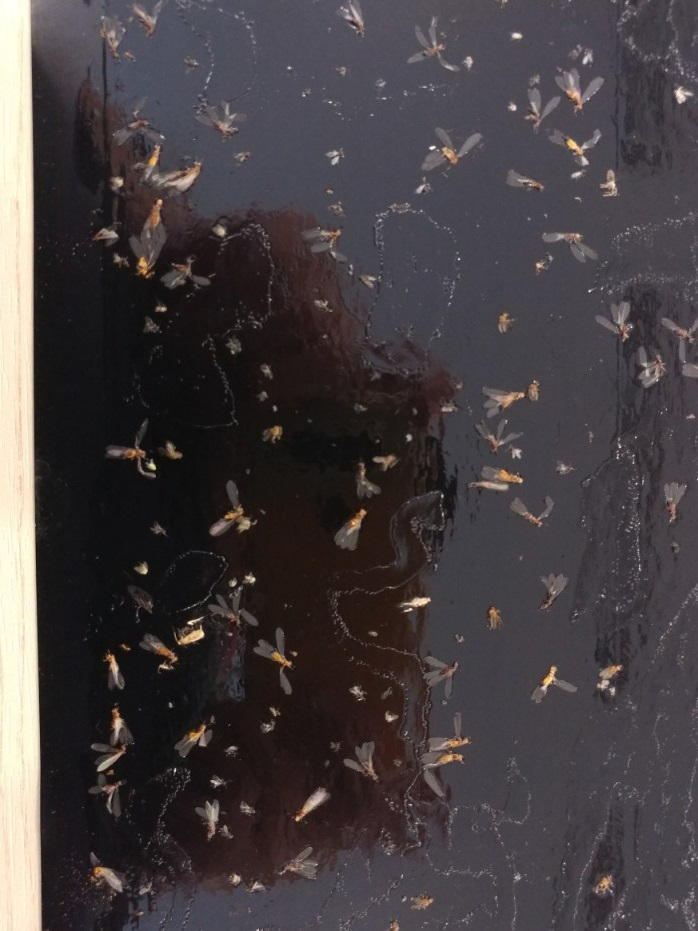flying termite: (252, 622, 315, 710), (329, 492, 379, 555), (418, 707, 479, 749), (484, 377, 530, 416), (469, 463, 533, 490), (103, 645, 130, 693), (419, 751, 481, 770)
